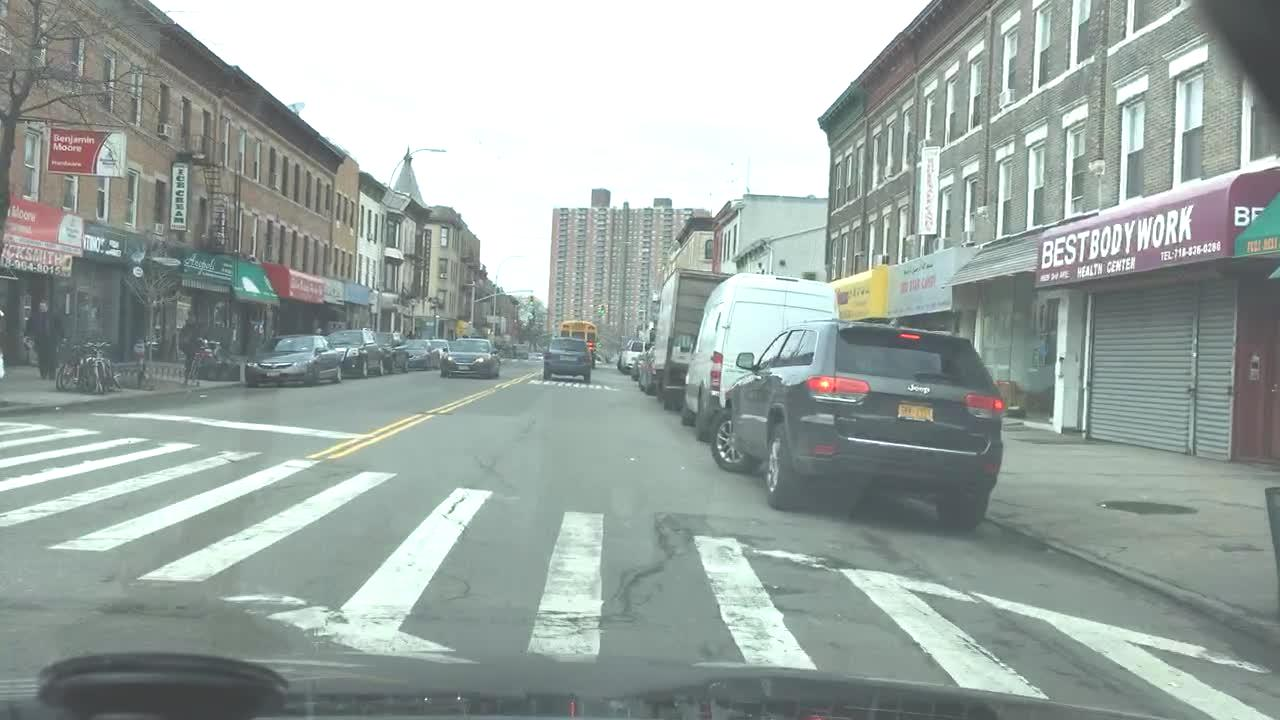jeep: (902, 372, 945, 405)
